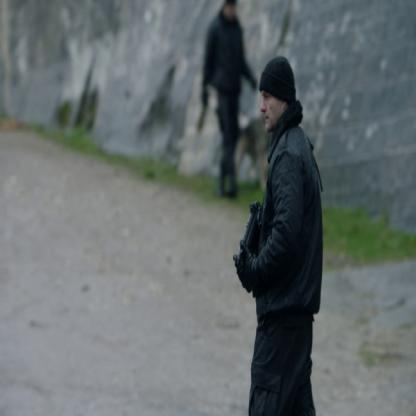Guns: (235, 198, 261, 276)
